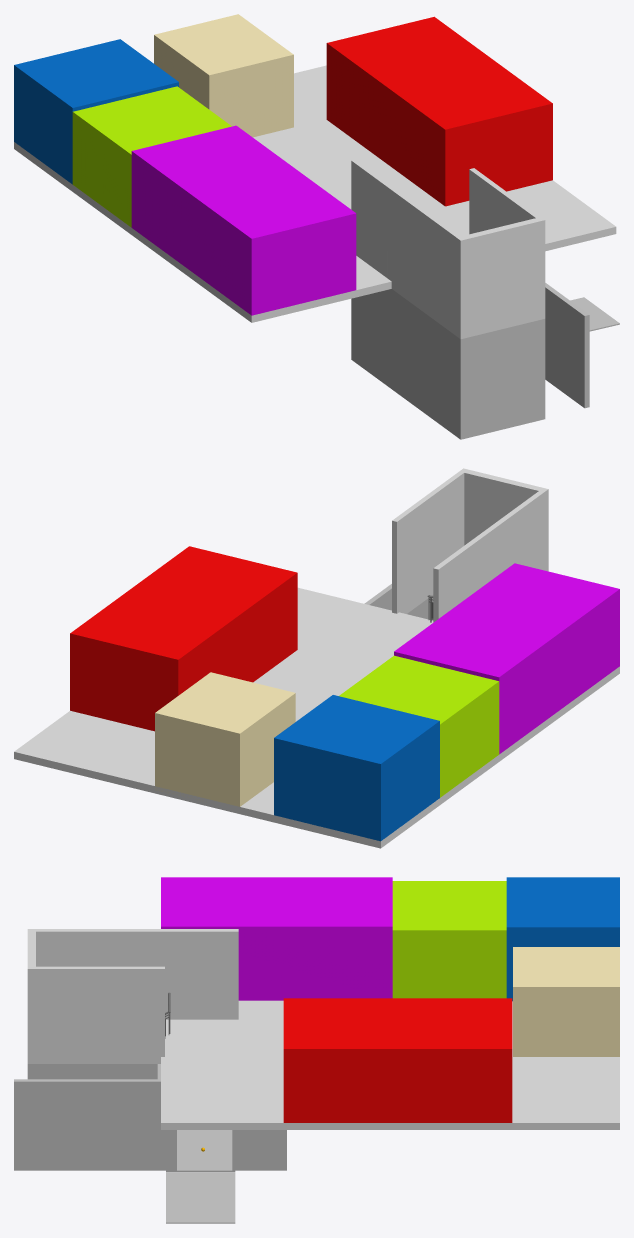
The model's file is hisa.glb.
3 renders of one model, top to bottom at view 1: azimuth 30°, elevation 25°; view 2: azimuth 150°, elevation 25°; view 3: azimuth 270°, elevation 25°, orthographic. The views are drawn at different scales.
Parts seen in each view (by area): view 1: 3D Solid.011, 3D Solid.012, 3D Solid.009, 3D Solid.007, 3D Solid.008, 3D Solid.014, 3D Solid.010, 3D Solid, 3D Solid.003, 3D Solid.005; view 2: 3D Solid.012, 3D Solid.011, 3D Solid.008, 3D Solid.010, 3D Solid.009, 3D Solid.014, 3D Solid; view 3: 3D Solid.012, 3D Solid.009, 3D Solid.008, 3D Solid.011, 3D Solid.003, 3D Solid, 3D Solid.014, 3D Solid.010, 3D Solid.005, 3D Solid.004, 3D Solid.007, 3D Solid.006.
Part boxes in pixels (x1,y1,x2,y2): 3D Solid.011: (131,125,356,315); 3D Solid.012: (326,16,552,206); 3D Solid.009: (351,159,545,339); 3D Solid.007: (351,289,545,439); 3D Solid.008: (14,65,616,322); 3D Solid.014: (154,14,293,137); 3D Solid.010: (14,39,178,184); 3D Solid: (72,86,231,227); 3D Solid.003: (545,283,589,408); 3D Solid.005: (570,297,619,331); 3D Solid.012: (70,546,297,731); 3D Solid.011: (394,563,619,754); 3D Solid.008: (14,587,619,848); 3D Solid.010: (274,695,439,841); 3D Solid.009: (392,468,548,622); 3D Solid.014: (155,672,295,806); 3D Solid: (339,655,499,797); 3D Solid.012: (283,998,512,1122); 3D Solid.009: (27,929,238,1063); 3D Solid.008: (161,1000,619,1129); 3D Solid.011: (161,877,392,1000); 3D Solid.003: (14,1079,235,1170); 3D Solid: (392,881,506,998); 3D Solid.014: (513,947,619,1056); 3D Solid.010: (506,877,619,1001); 3D Solid.005: (166,1172,235,1223); 3D Solid.004: (166,1130,235,1172); 3D Solid.007: (27,1064,157,1079); 3D Solid.006: (238,1130,286,1170).
Bounding box in the file's own units: 14.95 × 7.67 × 21.92.
